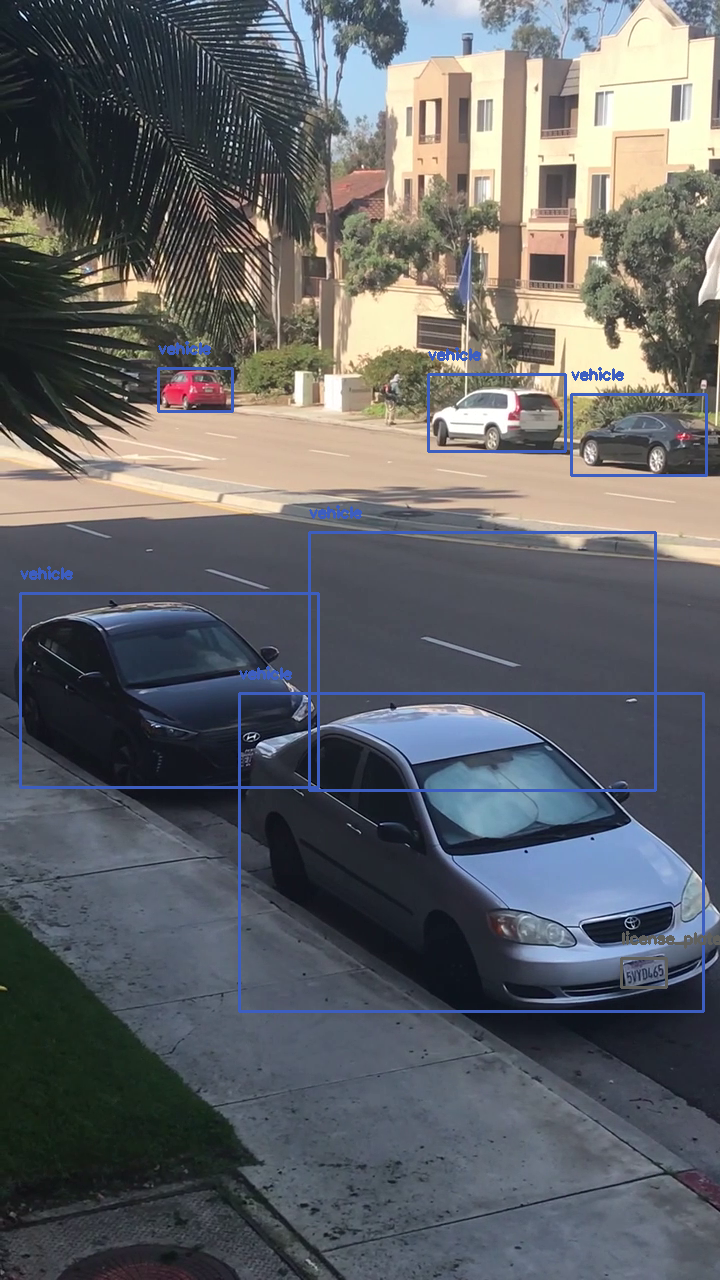license_plate: (621, 958, 666, 987)
vehicle: (239, 693, 703, 1011), (309, 532, 655, 790), (20, 593, 318, 787), (571, 394, 706, 475), (428, 374, 565, 451), (158, 368, 232, 411)
